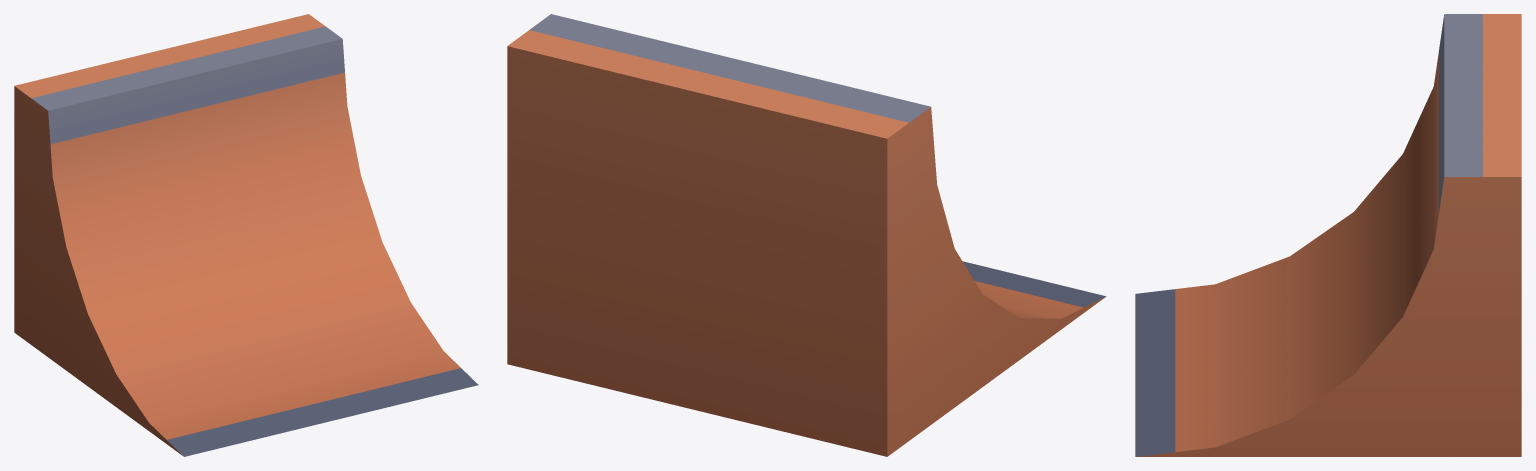
Rendered from half-pipe-transformed.glb.
3 renders of one model, left to right at view 1: azimuth 30°, elevation 25°; view 2: azimuth 150°, elevation 25°; view 3: azimuth 270°, elevation 25°, orthographic. The views are drawn at different scales.
Visible parts, largest first — view 1: half-pipe; view 2: half-pipe; view 3: half-pipe.
Part boxes in pixels (<box>): half-pipe: <box>14,14,478,456</box>; half-pipe: <box>507,14,1106,456</box>; half-pipe: <box>1135,14,1521,456</box>.
Size of the model in its own units: 1 by 0.8 by 1.
Materials: 1 (1 with a texture image).
